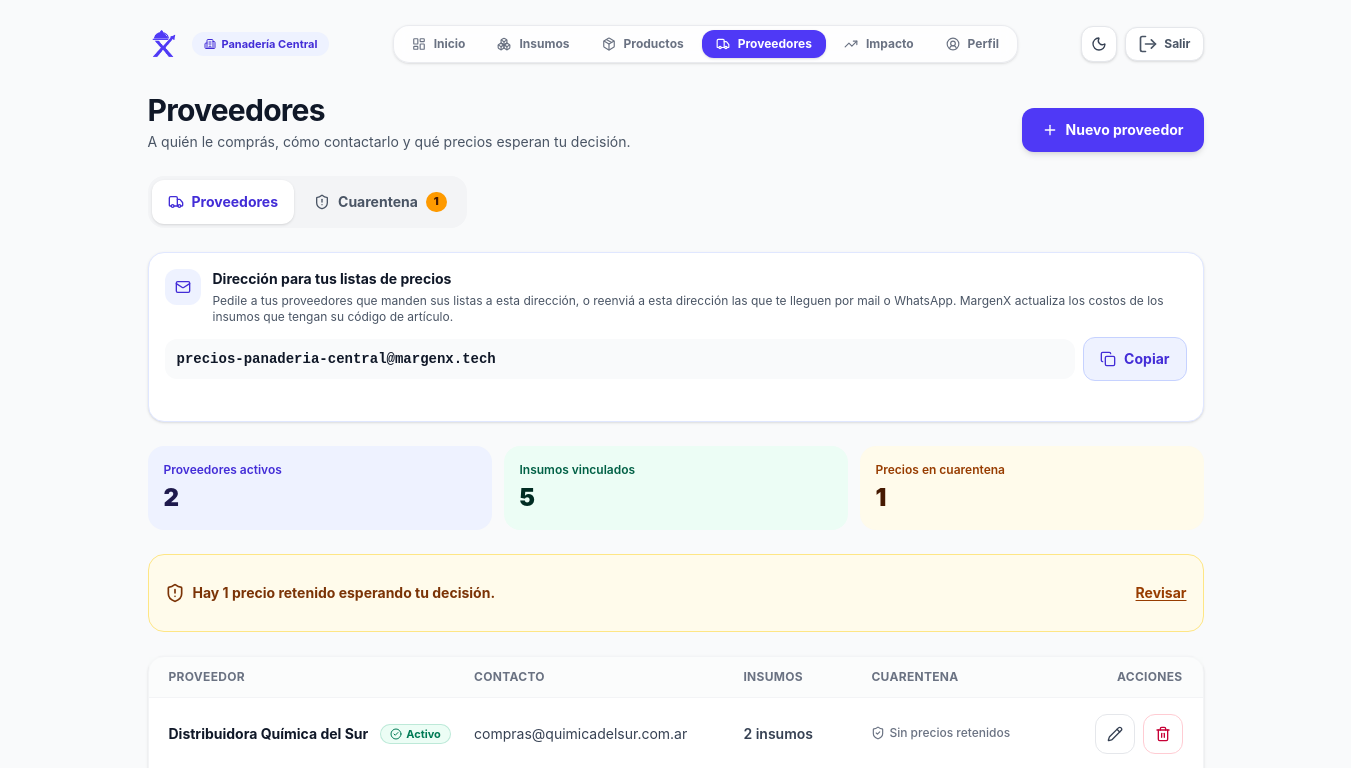
Test case: SuppliersPageContent › Escenario Gherkin: al completar nombre y contacto y confirmar, el proveedor aparece en la lista
Click the button "Nuevo proveedor" at (1112, 130), box [1022,108,1204,152]
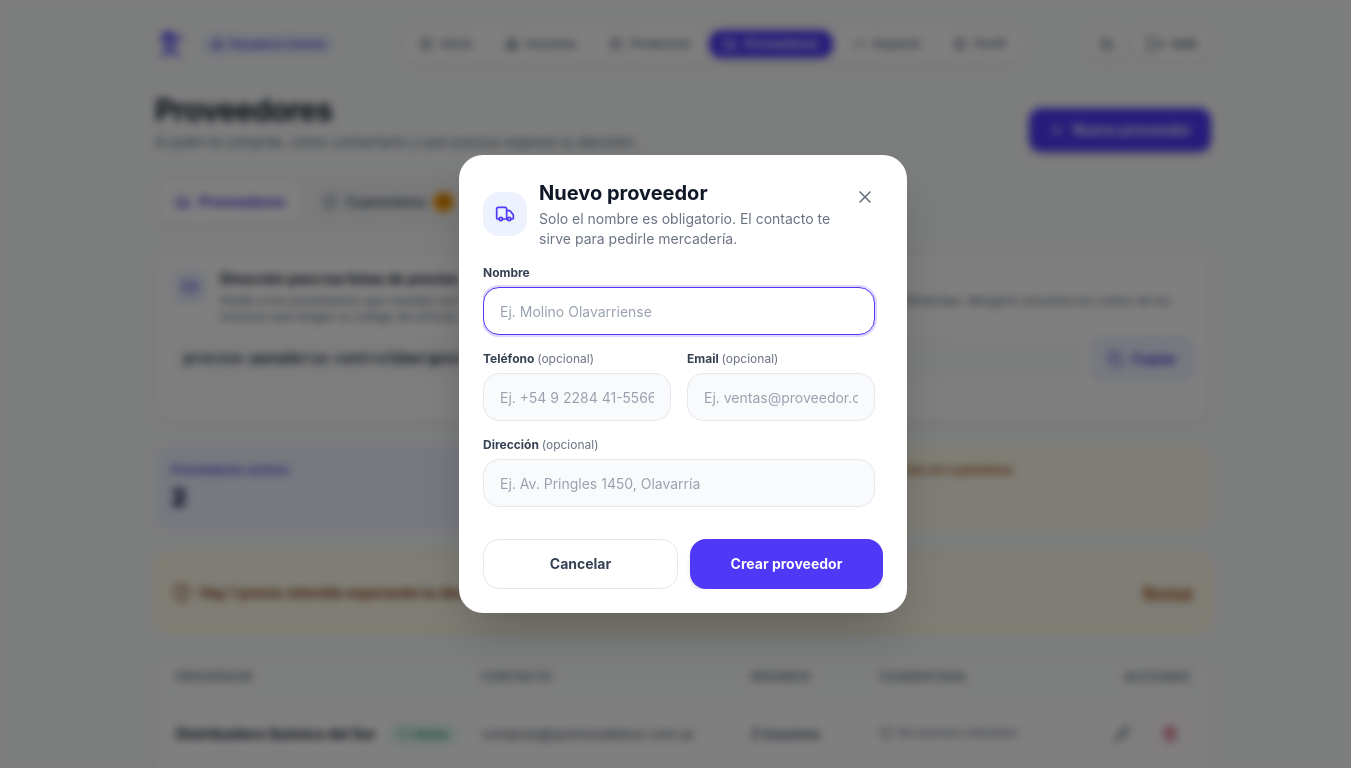
Type "Avícola San Cayetano" into the field labelled "Nombre" at (679, 311), box [483,287,875,335]
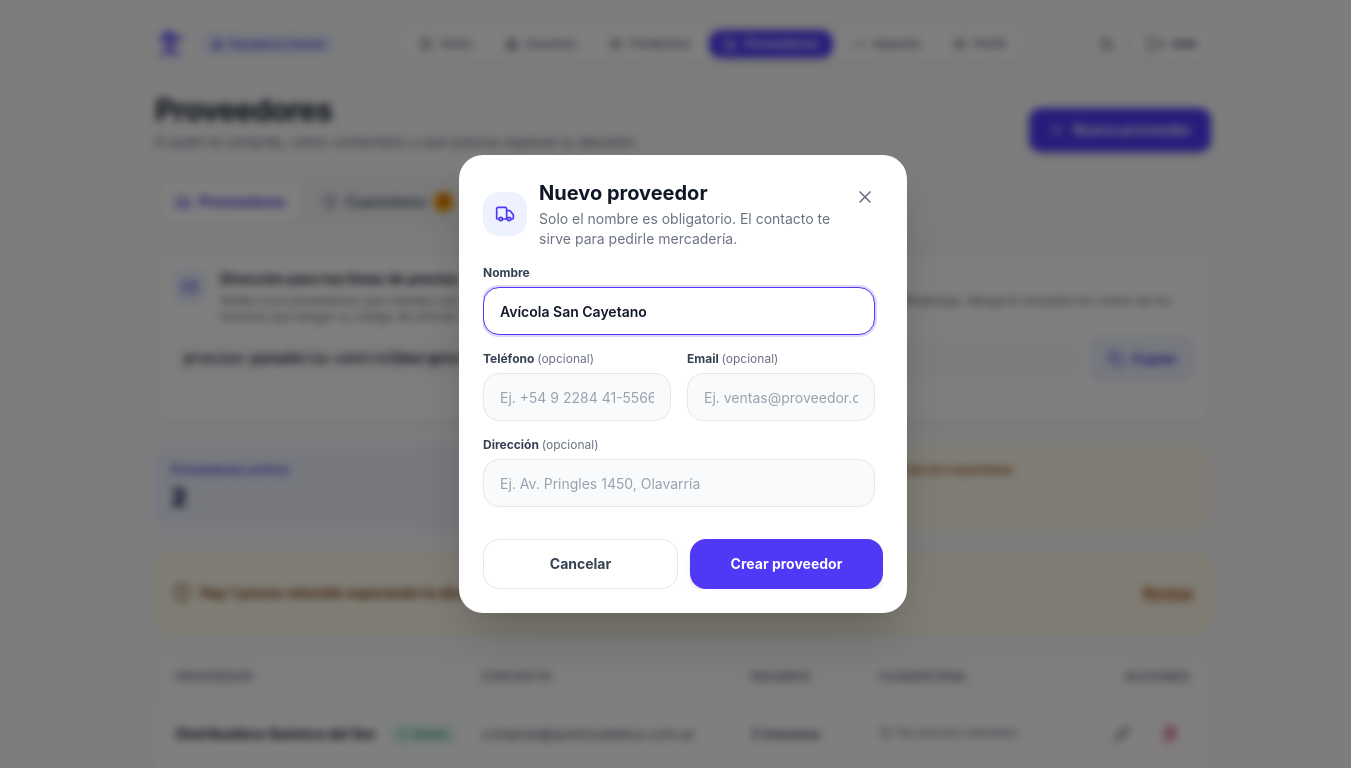
Type "0221 455-1020" into the field labelled "Teléfono (opcional)" at (577, 397), box [483,373,671,421]
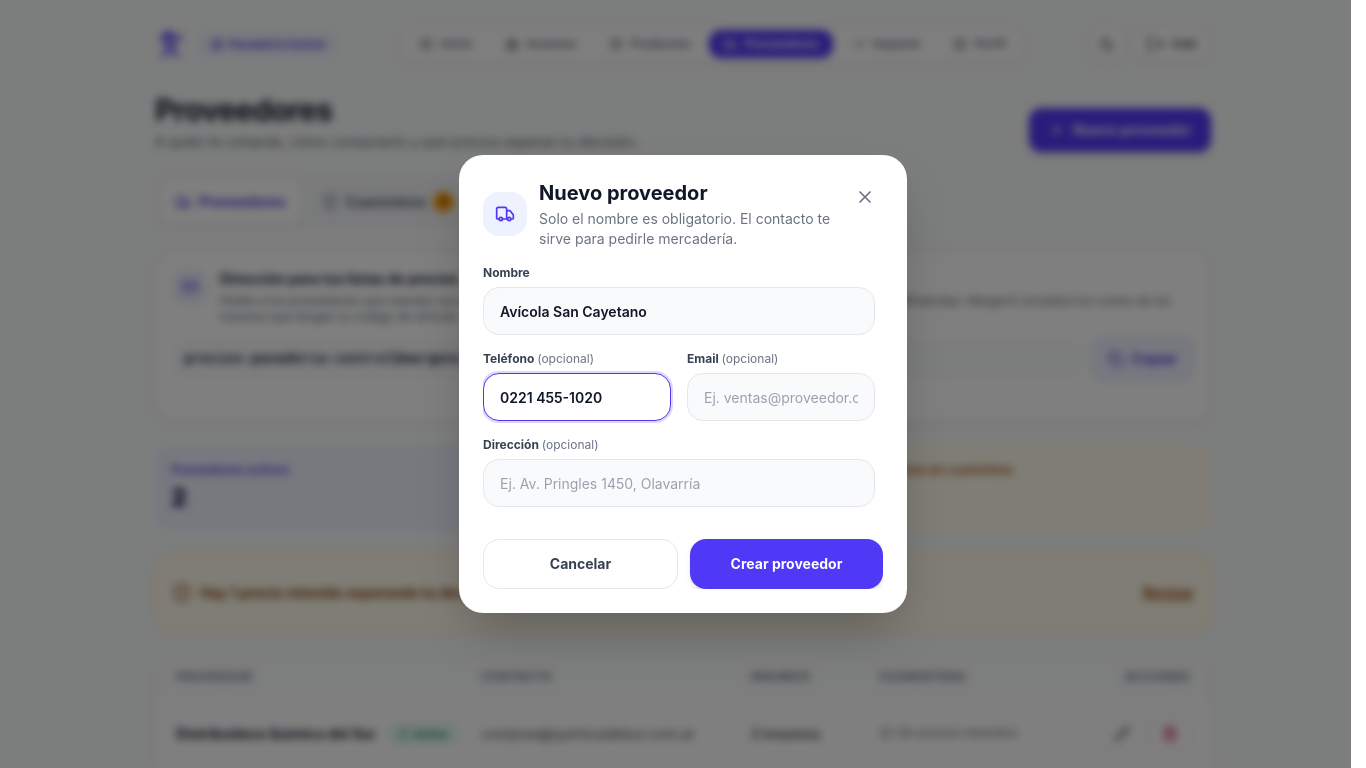
Click the button "Crear proveedor" at (786, 564), box [690,539,883,589]
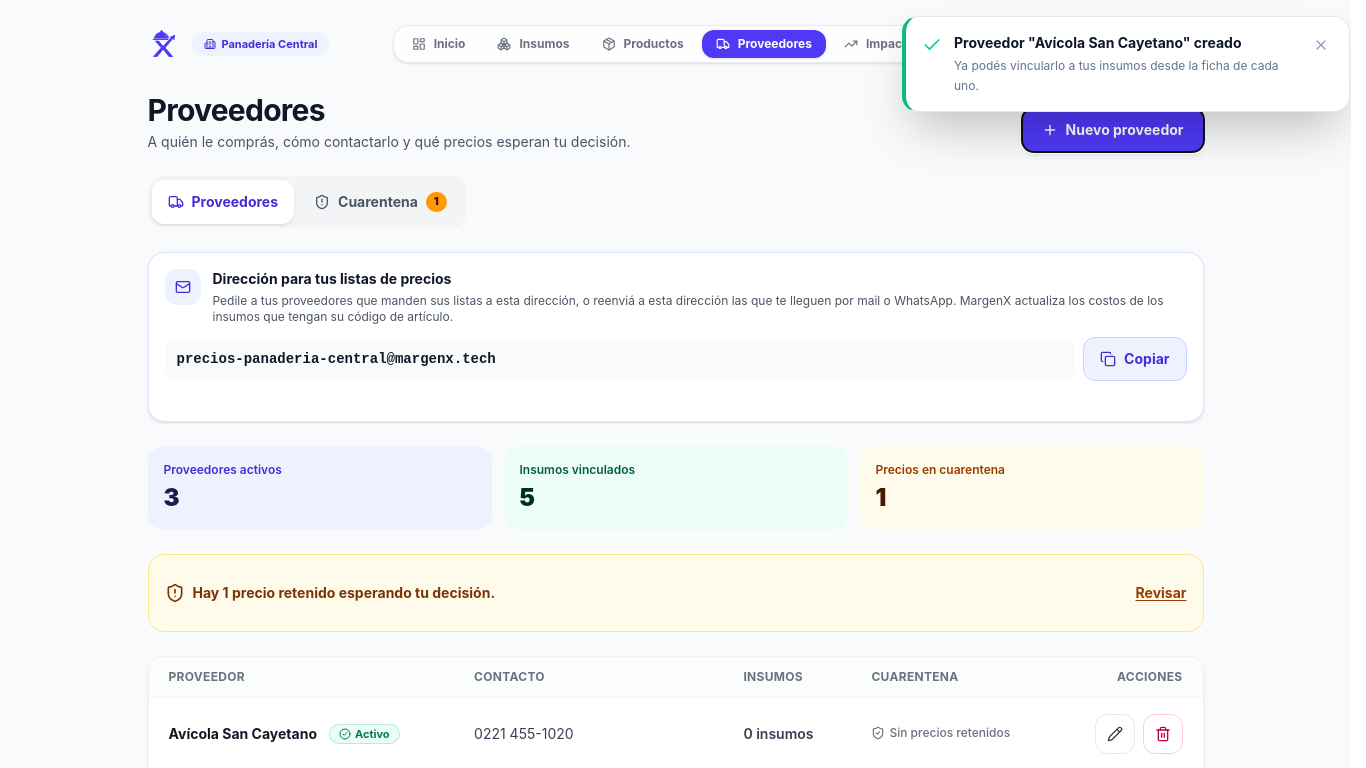
Now the text "0 insumos" is shown, box [743,725,814,742]
Now the text "0221 455-1020" is shown, box [474,725,574,742]
Now the text "Proveedor \"Avícola San Cayetano\" creado" is shown, box [954,34,1242,51]
